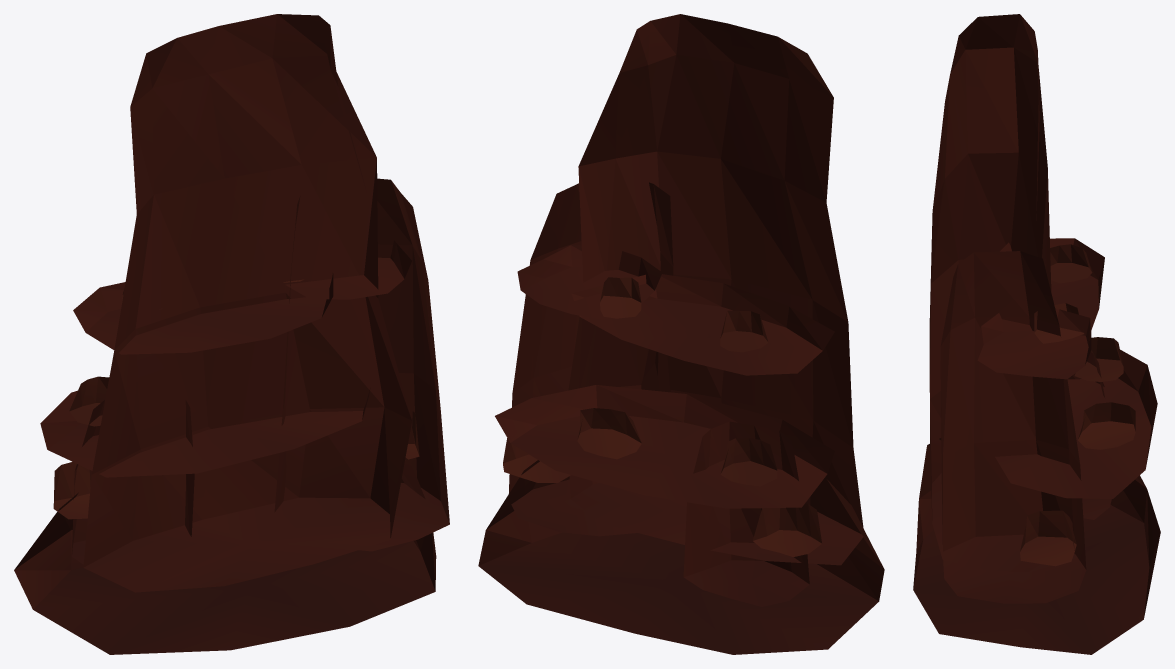
The model's file is basalt-shelf-original-v1.glb.
3 views of the same model, side by side, from view 1: azimuth 30°, elevation 25°; view 2: azimuth 150°, elevation 25°; view 3: azimuth 270°, elevation 25° (orthographic). The views are drawn at different scales.
Parts seen in each view (by area): view 1: basalt-shelf-load-bearing-massif, basalt-shelf-supported-spalls; view 2: basalt-shelf-load-bearing-massif, basalt-shelf-supported-spalls; view 3: basalt-shelf-load-bearing-massif, basalt-shelf-supported-spalls.
Part boxes in pixels (x1,y1,x2,y2): basalt-shelf-load-bearing-massif: [14, 14, 449, 654]; basalt-shelf-supported-spalls: [53, 279, 419, 519]; basalt-shelf-load-bearing-massif: [478, 14, 884, 654]; basalt-shelf-supported-spalls: [503, 277, 821, 556]; basalt-shelf-load-bearing-massif: [913, 14, 1160, 654]; basalt-shelf-supported-spalls: [1020, 244, 1135, 566].
Bounding box in the file's own units: 7.71 × 10.94 × 4.8.
